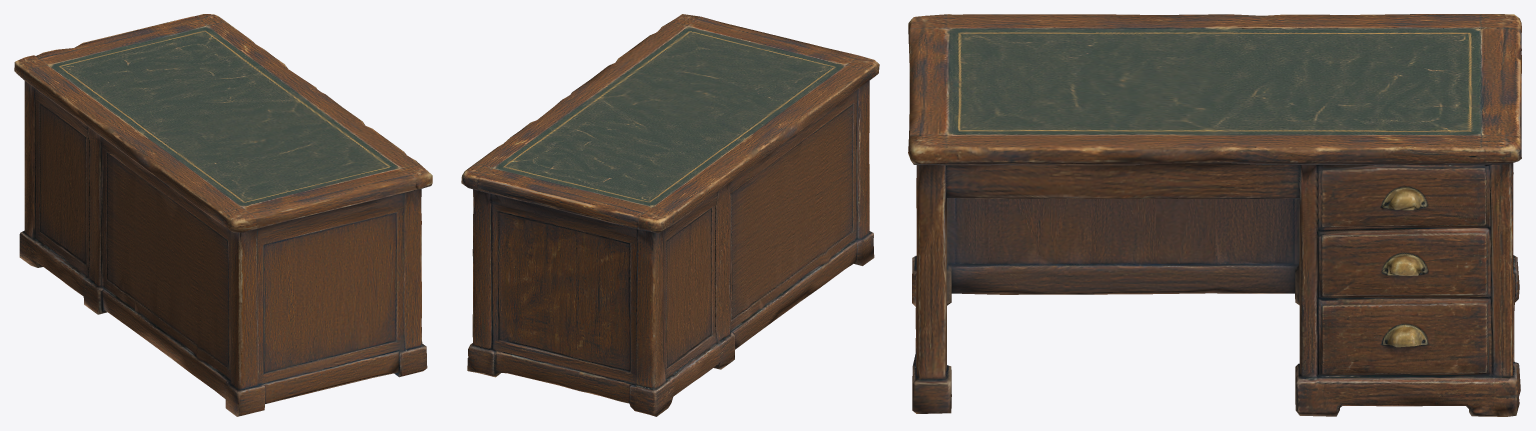
The model's file is TeacherDesk.fbx.
3 renders of one model, left to right at view 1: azimuth 30°, elevation 25°; view 2: azimuth 150°, elevation 25°; view 3: azimuth 270°, elevation 25°, orthographic. The views are drawn at different scales.
Parts seen in each view (by area): view 1: tripo_node_8c2bba81-921c-44e9-ae7f-a1c748af8aed; view 2: tripo_node_8c2bba81-921c-44e9-ae7f-a1c748af8aed; view 3: tripo_node_8c2bba81-921c-44e9-ae7f-a1c748af8aed.
Part boxes in pixels (left/top/right/bottom): tripo_node_8c2bba81-921c-44e9-ae7f-a1c748af8aed: left=14, top=14, right=432, bottom=416; tripo_node_8c2bba81-921c-44e9-ae7f-a1c748af8aed: left=461, top=14, right=879, bottom=416; tripo_node_8c2bba81-921c-44e9-ae7f-a1c748af8aed: left=908, top=14, right=1521, bottom=416.
Bounding box in the file's own units: 53.09 × 48.96 × 100.
Materials: 1 (1 with a texture image).
